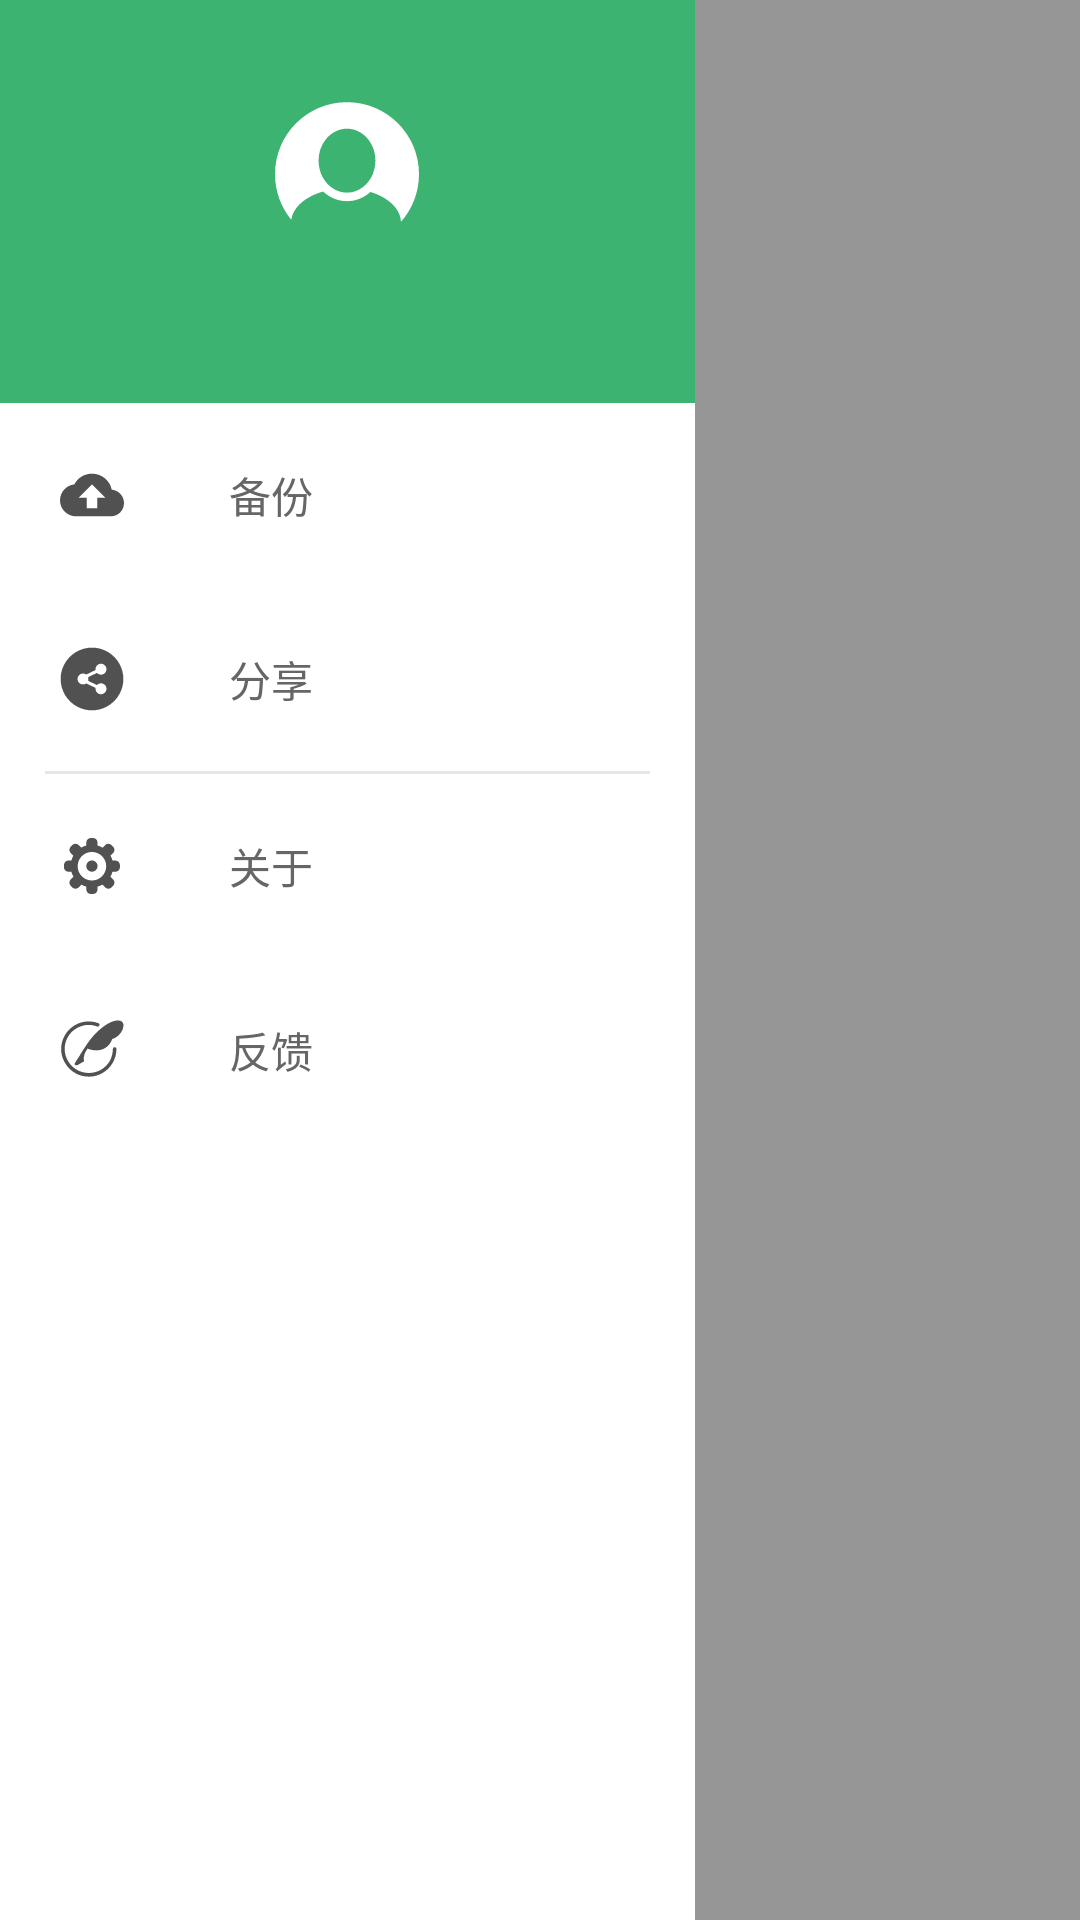

Named icons in this screenshot (1080px x 1920px) and their bounding boxes, (x1, y1, x2, y2):
personal backup: (60, 473, 124, 517)
personal feedback: (61, 1020, 124, 1077)
personal head portrait initial: (275, 102, 419, 222)
personal share: (60, 647, 124, 711)
